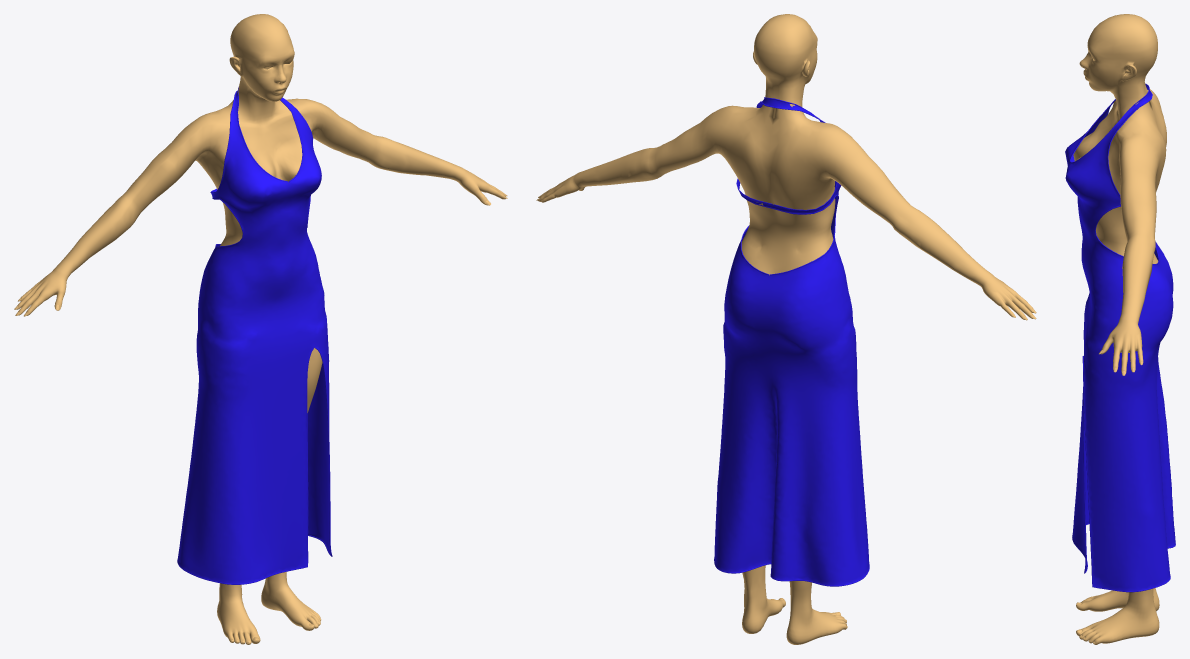
Rendered from dress9.glb.
3 renders of one model, left to right at view 1: azimuth 30°, elevation 25°; view 2: azimuth 150°, elevation 25°; view 3: azimuth 270°, elevation 25°, orthographic.
Visible parts, largest first — view 1: EveningDress, Body; view 2: EveningDress, Body; view 3: EveningDress, Body.
Part boxes in pixels (x1,y1,x2,y2): EveningDress: [177, 87, 332, 584]; Body: [16, 14, 506, 644]; EveningDress: [714, 97, 869, 586]; Body: [538, 14, 1033, 644]; EveningDress: [1065, 83, 1175, 592]; Body: [1073, 14, 1166, 644].
Bounding box in the file's own units: 1.58 × 1.85 × 0.306.
